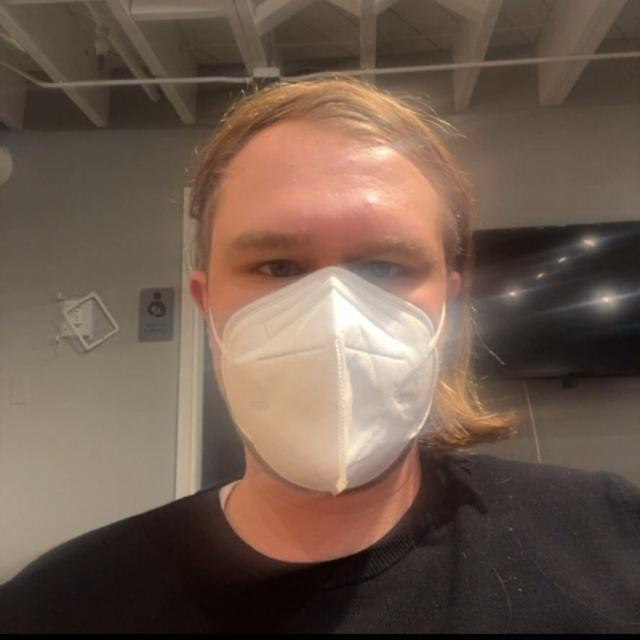no hat: (138, 63, 520, 574)
